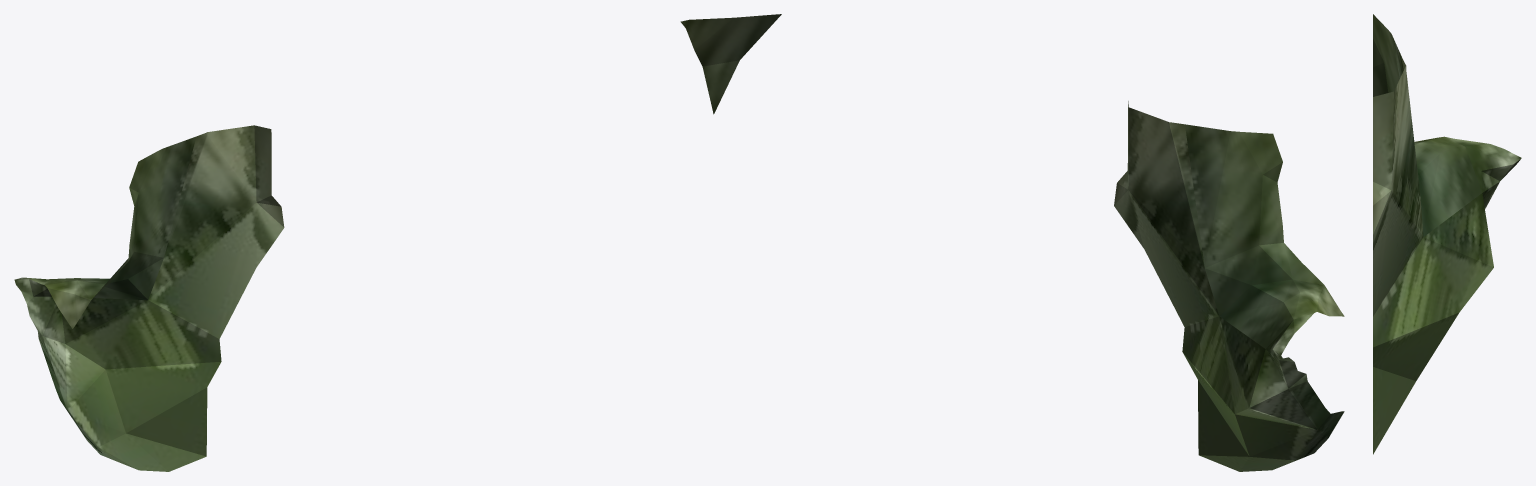
3 views of the same model, side by side, from view 1: azimuth 30°, elevation 25°; view 2: azimuth 150°, elevation 25°; view 3: azimuth 270°, elevation 25° (orthographic). The views are drawn at different scales.
Bounding box in the file's own units: 2.95 × 1.55 × 0.5139.
1 material, 1 textured.
